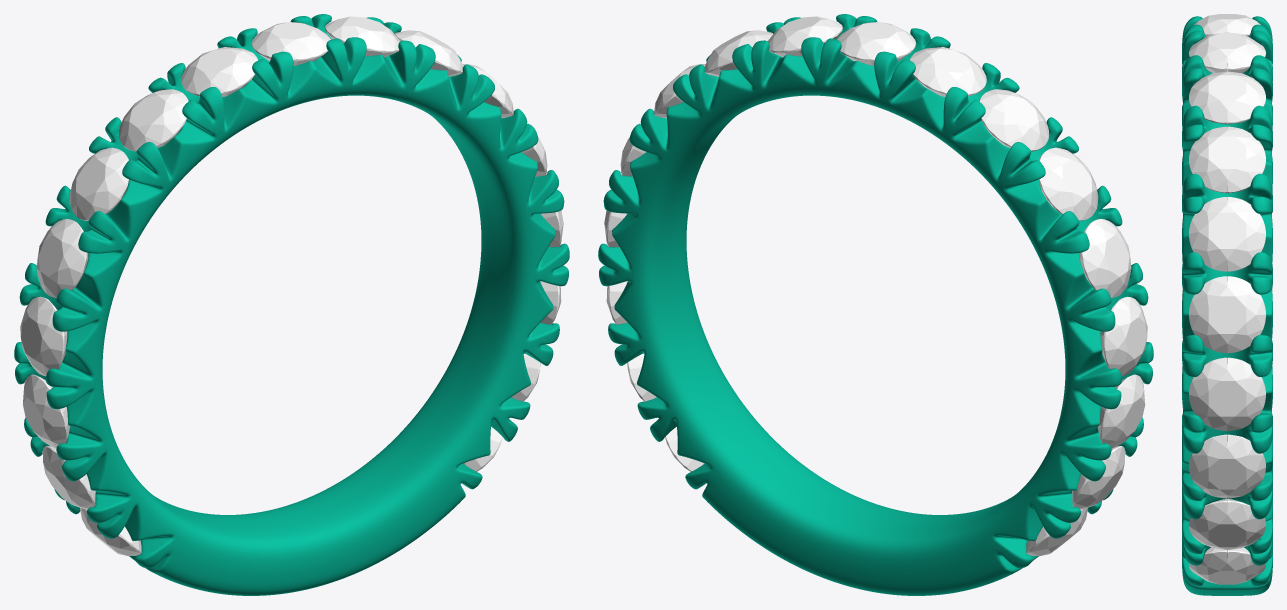
Rendered from BE2D8721PLC_RENDER.glb.
3 renders of one model, left to right at view 1: azimuth 30°, elevation 25°; view 2: azimuth 150°, elevation 25°; view 3: azimuth 270°, elevation 25°, orthographic. The views are drawn at different scales.
Visible parts, largest first — view 1: Metal03, Diamond_Round_Gem_BD.011, Diamond_Round_Gem_BD.010, Diamond_Round_Gem_BD.012, Diamond_Round_Gem_BD.009, Diamond_Round_Gem_BD.013, Diamond_Round_Gem_BD.008, Diamond_Round_Gem_BD.014, Diamond_Round_Gem_BD.007, Diamond_Round_Gem_BD.015, Diamond_Round_Gem_BD.006, Diamond_Round_Gem_BD.016; view 2: Metal03, Diamond_Round_Gem_BD.011, Diamond_Round_Gem_BD.010, Diamond_Round_Gem_BD.012, Diamond_Round_Gem_BD.009, Diamond_Round_Gem_BD.013, Diamond_Round_Gem_BD.008, Diamond_Round_Gem_BD.014, Diamond_Round_Gem_BD.007, Diamond_Round_Gem_BD.015, Diamond_Round_Gem_BD.006, Diamond_Round_Gem_BD.016; view 3: Metal03, Diamond_Round_Gem_BD.004, Diamond_Round_Gem_BD.005, Diamond_Round_Gem_BD.003, Diamond_Round_Gem_BD.006, Diamond_Round_Gem_BD.002, Diamond_Round_Gem_BD.007, Diamond_Round_Gem_BD.001, Diamond_Round_Gem_BD.008, Diamond_Round_Gem_BD, Diamond_Round_Gem_BD.009.
Part boxes in pixels (x1,y1,x2,y2): Metal03: [14, 14, 569, 595]; Diamond_Round_Gem_BD.011: [69, 147, 128, 220]; Diamond_Round_Gem_BD.010: [119, 89, 188, 151]; Diamond_Round_Gem_BD.012: [36, 219, 88, 297]; Diamond_Round_Gem_BD.009: [181, 47, 257, 97]; Diamond_Round_Gem_BD.013: [20, 296, 67, 376]; Diamond_Round_Gem_BD.008: [252, 22, 330, 65]; Diamond_Round_Gem_BD.014: [22, 374, 70, 448]; Diamond_Round_Gem_BD.007: [325, 16, 400, 57]; Diamond_Round_Gem_BD.015: [43, 446, 95, 509]; Diamond_Round_Gem_BD.006: [394, 30, 463, 76]; Diamond_Round_Gem_BD.016: [80, 507, 141, 555]; Metal03: [598, 14, 1153, 595]; Diamond_Round_Gem_BD.011: [1039, 147, 1098, 220]; Diamond_Round_Gem_BD.010: [979, 89, 1048, 151]; Diamond_Round_Gem_BD.012: [1079, 219, 1131, 297]; Diamond_Round_Gem_BD.009: [910, 47, 986, 97]; Diamond_Round_Gem_BD.013: [1100, 296, 1147, 376]; Diamond_Round_Gem_BD.008: [837, 22, 915, 65]; Diamond_Round_Gem_BD.014: [1097, 374, 1145, 448]; Diamond_Round_Gem_BD.007: [767, 16, 842, 57]; Diamond_Round_Gem_BD.015: [1072, 446, 1124, 509]; Diamond_Round_Gem_BD.006: [704, 30, 773, 76]; Diamond_Round_Gem_BD.016: [1026, 507, 1087, 556]; Metal03: [1182, 16, 1272, 595]; Diamond_Round_Gem_BD.004: [1189, 276, 1265, 353]; Diamond_Round_Gem_BD.005: [1189, 196, 1265, 271]; Diamond_Round_Gem_BD.003: [1189, 357, 1265, 431]; Diamond_Round_Gem_BD.006: [1189, 126, 1265, 193]; Diamond_Round_Gem_BD.002: [1189, 434, 1265, 498]; Diamond_Round_Gem_BD.007: [1189, 71, 1265, 124]; Diamond_Round_Gem_BD.001: [1189, 499, 1265, 550]; Diamond_Round_Gem_BD.008: [1189, 32, 1265, 73]; Diamond_Round_Gem_BD: [1189, 547, 1265, 584]; Diamond_Round_Gem_BD.009: [1194, 14, 1260, 36].
Bounding box in the file's own units: 21.26 × 21.17 × 3.31.
